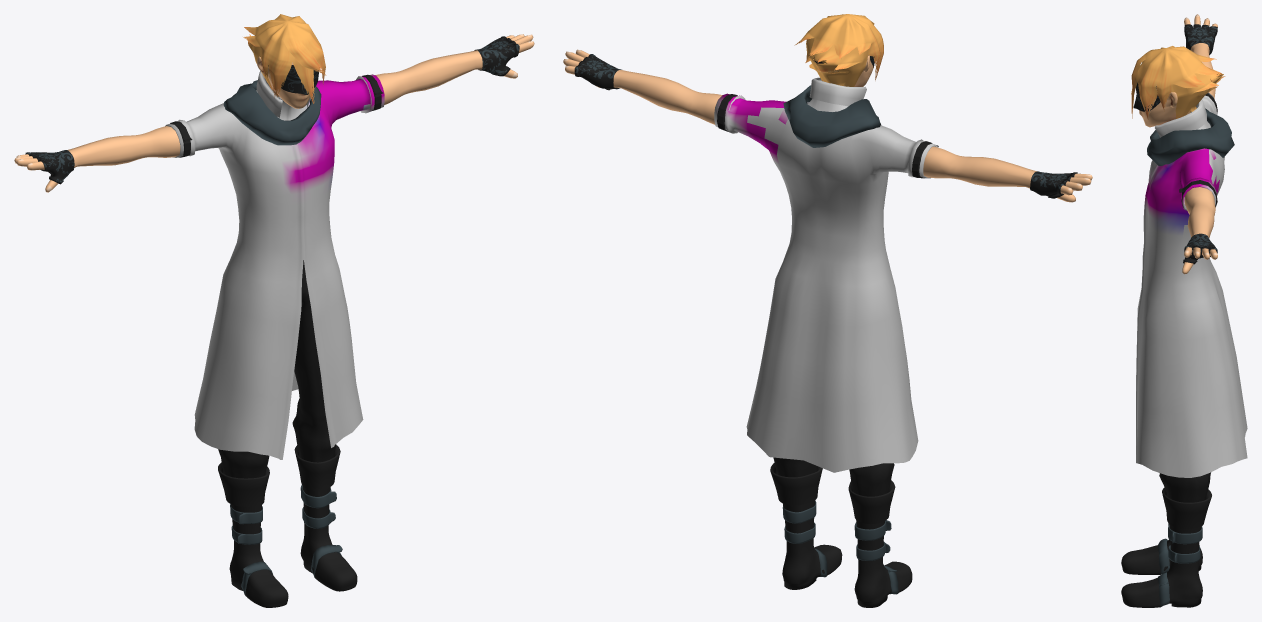
The model's file is BoyCharacter.fbx.
3 renders of one model, left to right at view 1: azimuth 30°, elevation 25°; view 2: azimuth 150°, elevation 25°; view 3: azimuth 270°, elevation 25°, orthographic. The views are drawn at different scales.
Visible parts, largest first — view 1: Shirt, Band, Boots, Pants, Scarf, Straps, Glove; view 2: Shirt, Band, Boots, Scarf, Straps, Pants, Glove; view 3: Shirt, Band, Boots, Scarf, Straps, Glove, Pants, ShirtStrap.
Part boxes in pixels (x1,y1,x2,y2): Shirt: (165,71,384,459); Band: (14,14,534,192); Boots: (218,445,357,607); Pants: (218,260,336,478); Scarf: (223,80,321,145); Straps: (230,485,342,596); Glove: (25,36,519,184); Shirt: (714,77,938,472); Band: (563,14,1092,202); Boots: (770,463,912,607); Scarf: (783,85,880,147); Straps: (782,501,898,594); Pants: (773,457,894,496); Glove: (574,54,1077,198); Shirt: (1136,92,1247,477); Band: (1131,14,1225,274); Boots: (1121,487,1211,607); Scarf: (1147,108,1234,165); Straps: (1158,523,1202,607); Glove: (1183,24,1217,264); Pants: (1159,472,1210,502); ShirtStrap: (1179,93,1217,207).
Bounding box in the file's own units: 653 × 679 × 145.
